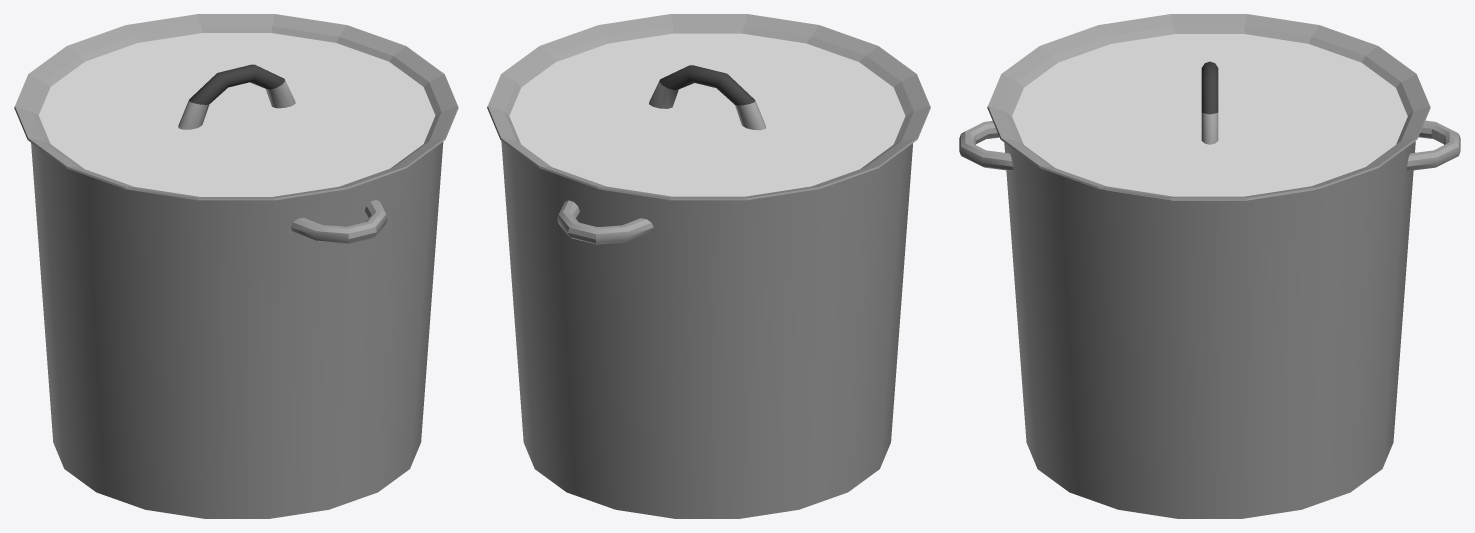
The model's file is MC_Pot.fbx.
3 views of the same model, side by side, from view 1: azimuth 30°, elevation 25°; view 2: azimuth 150°, elevation 25°; view 3: azimuth 270°, elevation 25° (orthographic).
Parts seen in each view (by area): view 1: Circle.001, Circle.002; view 2: Circle.001, Circle.002; view 3: Circle.001, Circle.002.
Part boxes in pixels (bbox=[...]): Circle.001: bbox=[31, 142, 443, 518]; Circle.002: bbox=[14, 14, 458, 200]; Circle.001: bbox=[501, 141, 912, 518]; Circle.002: bbox=[487, 14, 930, 200]; Circle.001: bbox=[959, 120, 1460, 518]; Circle.002: bbox=[987, 14, 1430, 199].
Size of the model in its own units: 29.77 by 28 by 34.16.
